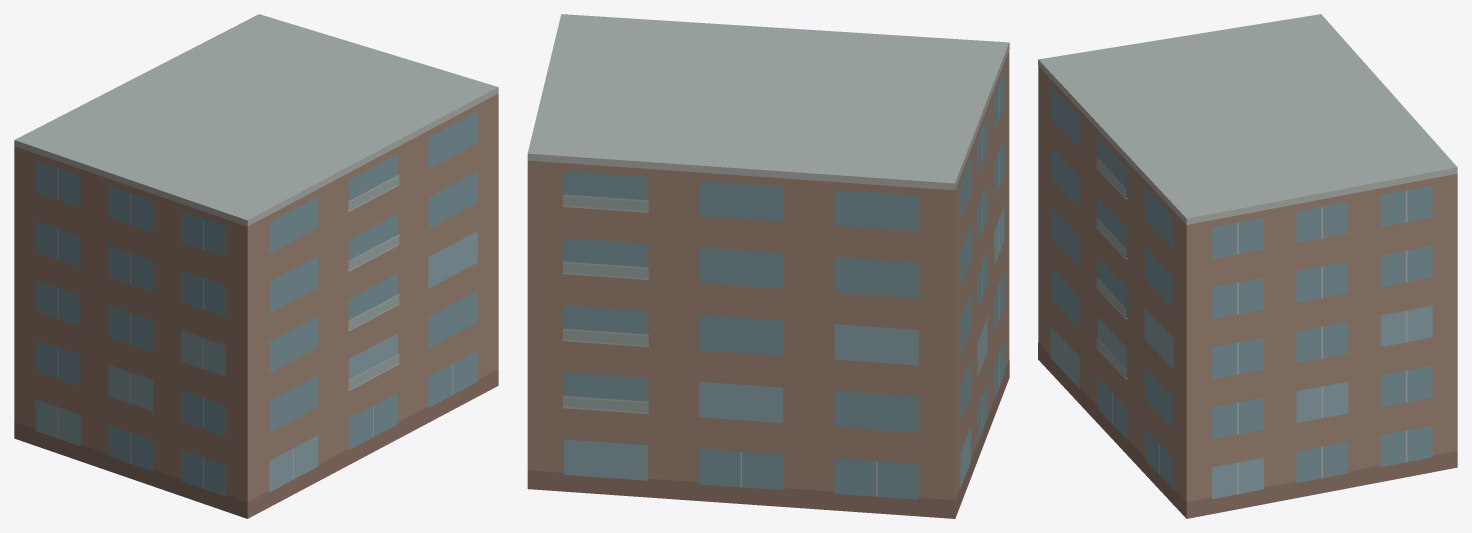
Rendered from survey-upis-32857776.glb.
3 renders of one model, left to right at view 1: azimuth 30°, elevation 25°; view 2: azimuth 150°, elevation 25°; view 3: azimuth 270°, elevation 25°, orthographic. The views are drawn at different scales.
Visible parts, largest first — view 1: survey-upis-32857776.tmp; view 2: survey-upis-32857776.tmp; view 3: survey-upis-32857776.tmp.
Boxes of the visible parts, x1=… form: survey-upis-32857776.tmp: x1=14, y1=14, x2=498, y2=518; survey-upis-32857776.tmp: x1=527, y1=14, x2=1009, y2=518; survey-upis-32857776.tmp: x1=1038, y1=14, x2=1457, y2=518.
Size of the model in its own units: 17.28 by 11.8 by 14.96.
